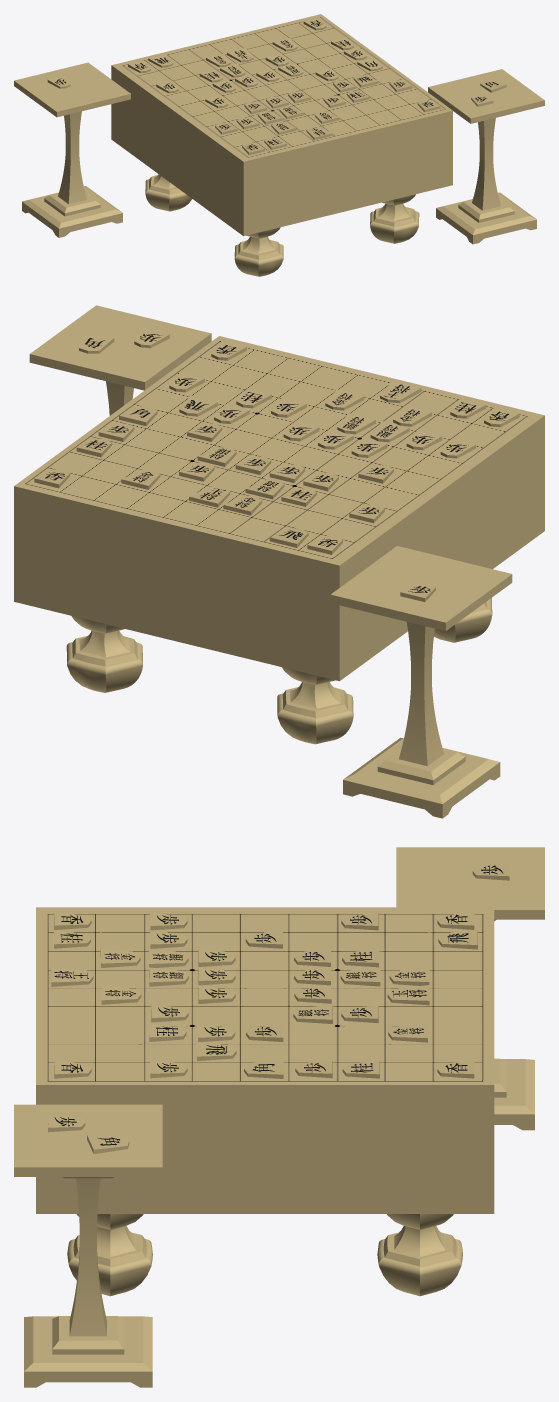
Rendered from 630_将棋セット途中.glb.
The picture shows the model from 3 angles, top to bottom: view 1: azimuth 30°, elevation 25°; view 2: azimuth 150°, elevation 25°; view 3: azimuth 270°, elevation 25°; orthographic projection. The views are drawn at different scales.
Parts seen in each view (by area): view 1: syougi_ban, komadai2, komadai1; view 2: syougi_ban, komadai2, komadai1, oh; view 3: syougi_ban, komadai1, komadai2, oh, gyoku, kaku.001, gin1.001, kin1, kin2, hisha.001, kin2.001, gin2 (+5 smaller).
Part boxes in pixels (<box>): syougi_ban: <box>111,14,452,276</box>; komadai2: <box>14,62,130,237</box>; komadai1: <box>428,69,544,244</box>; syougi_ban: <box>14,336,544,744</box>; komadai2: <box>330,546,512,818</box>; komadai1: <box>29,305,211,415</box>; oh: <box>380,381,421,403</box>; syougi_ban: <box>36,907,494,1296</box>; komadai1: <box>14,1104,162,1387</box>; komadai2: <box>396,847,544,1130</box>; oh: <box>51,966,93,986</box>; gyoku: <box>387,985,429,1005</box>; kaku.001: <box>87,1135,129,1154</box>; gin1.001: <box>340,967,380,986</box>; kin1: <box>101,985,141,1004</box>; kin2: <box>100,948,140,967</box>; hisha.001: <box>438,930,477,949</box>; kin2.001: <box>389,967,429,985</box>; gin2: <box>149,967,188,986</box>.
Size of the model in its own units: 0.6114 by 0.213 by 0.4287.
22 materials, 1 textured.
